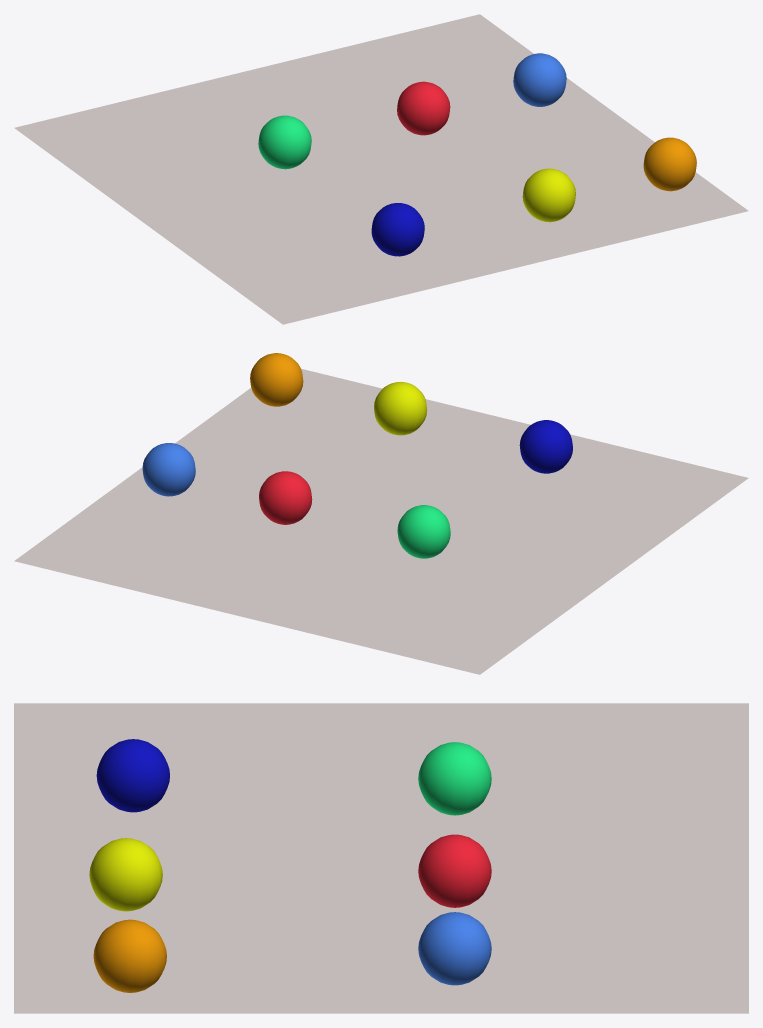
File: Ball.glb
3 views of the same model, one above another, from view 1: azimuth 30°, elevation 25°; view 2: azimuth 150°, elevation 25°; view 3: azimuth 270°, elevation 25° (orthographic). The views are drawn at different scales.
Parts seen in each view (by area): view 1: Plane, Sphere.001, Sphere.005, Sphere.003, Sphere.004, Sphere.002, Sphere; view 2: Plane, Sphere.001, Sphere.003, Sphere.005, Sphere.002, Sphere.004, Sphere; view 3: Plane, Sphere, Sphere.005, Sphere.003, Sphere.004, Sphere.001, Sphere.002.
Boxes of the visible parts, bbox=[...] form: Plane: bbox=[14, 14, 748, 324]; Sphere.001: bbox=[643, 137, 696, 191]; Sphere.005: bbox=[258, 115, 311, 169]; Sphere.003: bbox=[513, 53, 566, 106]; Sphere.004: bbox=[397, 81, 450, 135]; Sphere.002: bbox=[371, 203, 424, 256]; Sphere: bbox=[522, 168, 575, 222]; Plane: bbox=[14, 368, 748, 674]; Sphere.001: bbox=[250, 353, 303, 406]; Sphere.003: bbox=[142, 443, 195, 496]; Sphere.005: bbox=[397, 505, 450, 558]; Sphere.002: bbox=[519, 420, 572, 473]; Sphere.004: bbox=[259, 471, 312, 524]; Sphere: bbox=[374, 381, 427, 435]; Plane: bbox=[14, 703, 748, 1013]; Sphere: bbox=[89, 838, 162, 911]; Sphere.005: bbox=[418, 742, 491, 815]; Sphere.003: bbox=[418, 912, 491, 985]; Sphere.004: bbox=[418, 834, 491, 907]; Sphere.001: bbox=[93, 919, 166, 992]; Sphere.002: bbox=[96, 739, 169, 812].
Size of the model in its own units: 10 by 1 by 10.
